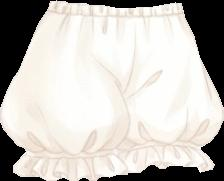Hemline: (11, 167, 127, 180), (126, 162, 215, 172)
Pantleg: (0, 1, 135, 180), (117, 2, 223, 172)
Waistline: (47, 8, 182, 18), (51, 0, 178, 8), (118, 144, 200, 154), (25, 151, 117, 158)
